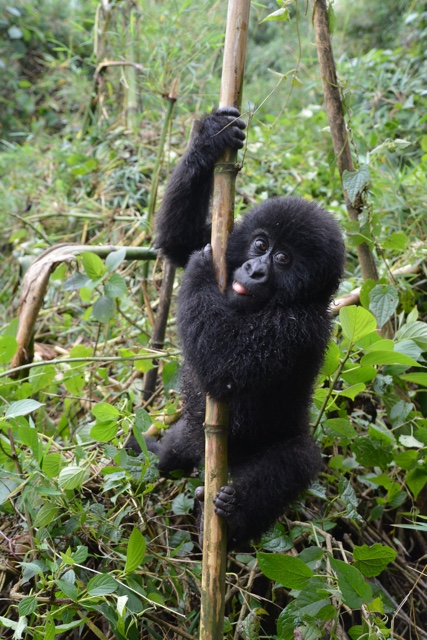Goriila: (149, 101, 359, 552)
